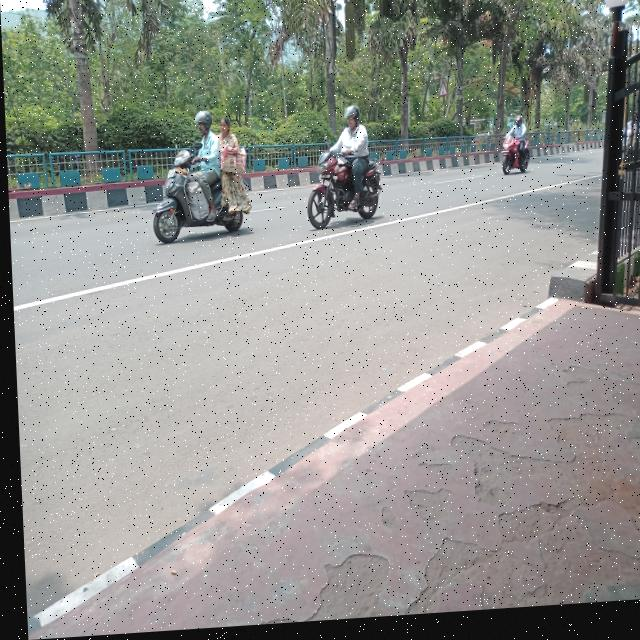bike: (143, 148, 242, 241), (300, 152, 390, 239), (489, 139, 548, 191)
